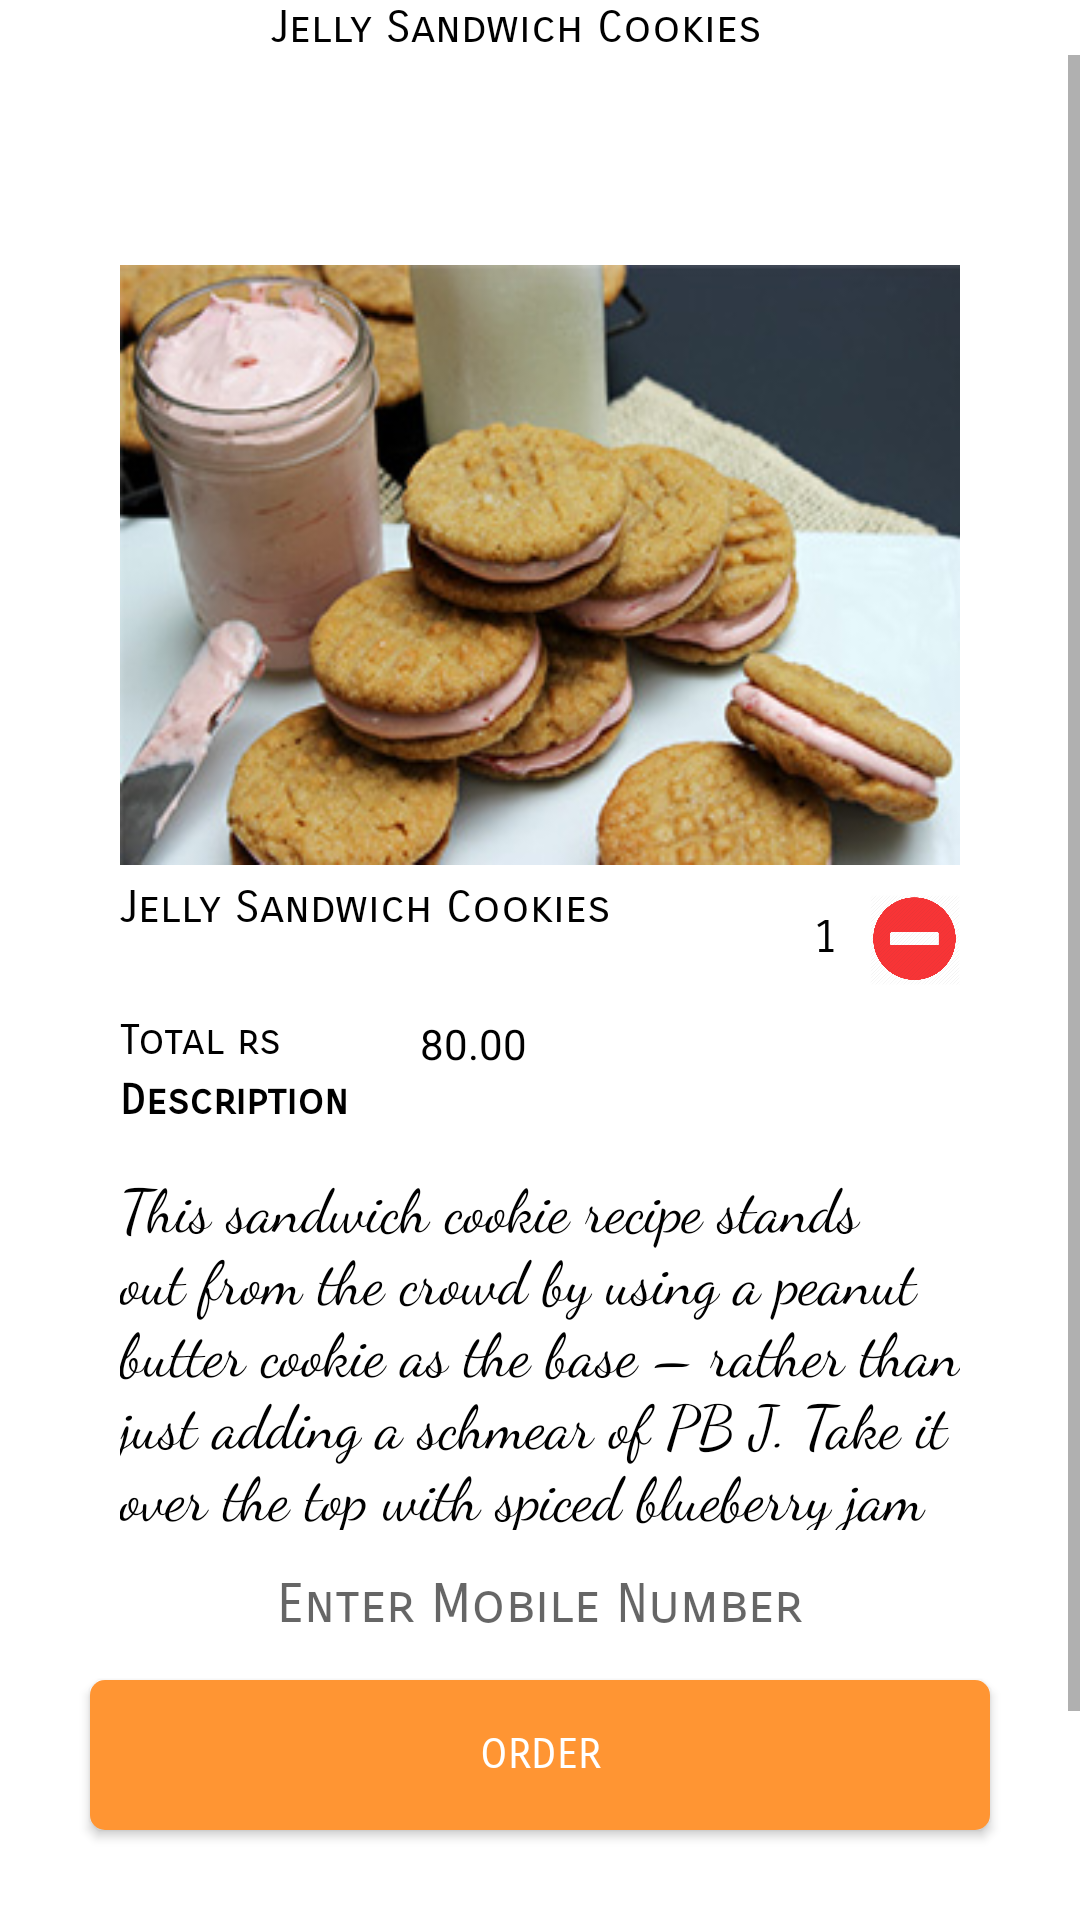

Named icons in this screenshot (1080×1920) and their centers, (x,y):
minus: (914,938)
